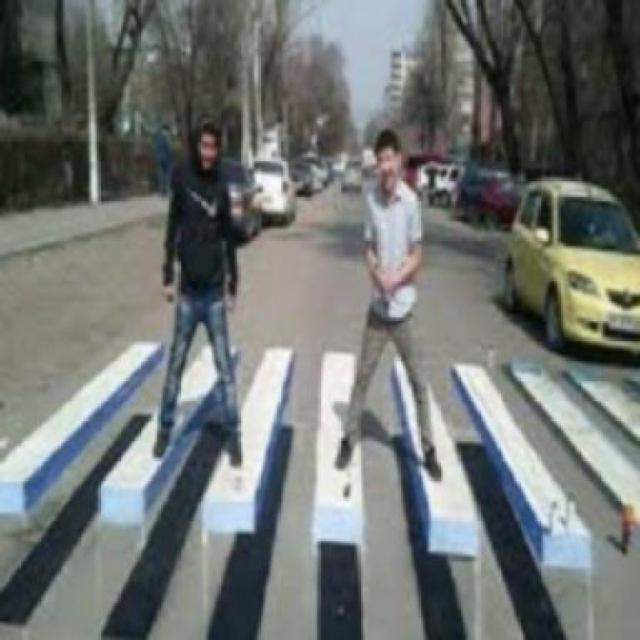Person: (324, 121, 447, 488), (154, 111, 252, 469)
